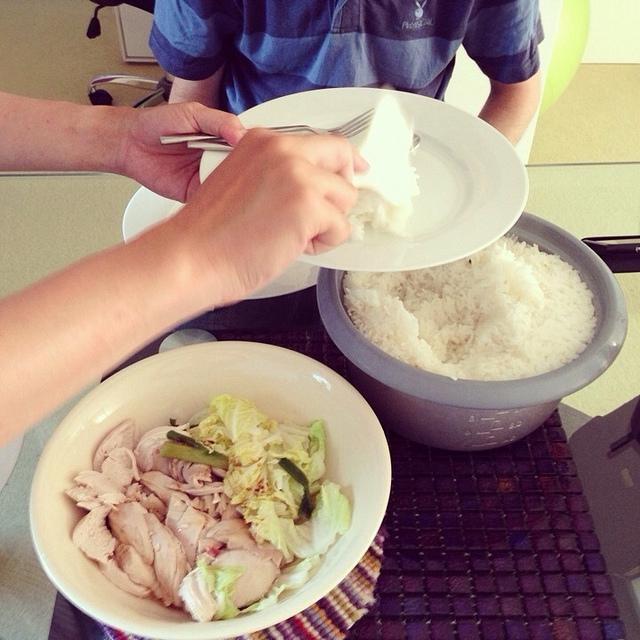lettuce: (278, 480, 349, 558), (178, 560, 245, 622), (207, 393, 270, 444), (301, 420, 326, 485), (282, 475, 306, 507), (240, 451, 253, 467)
